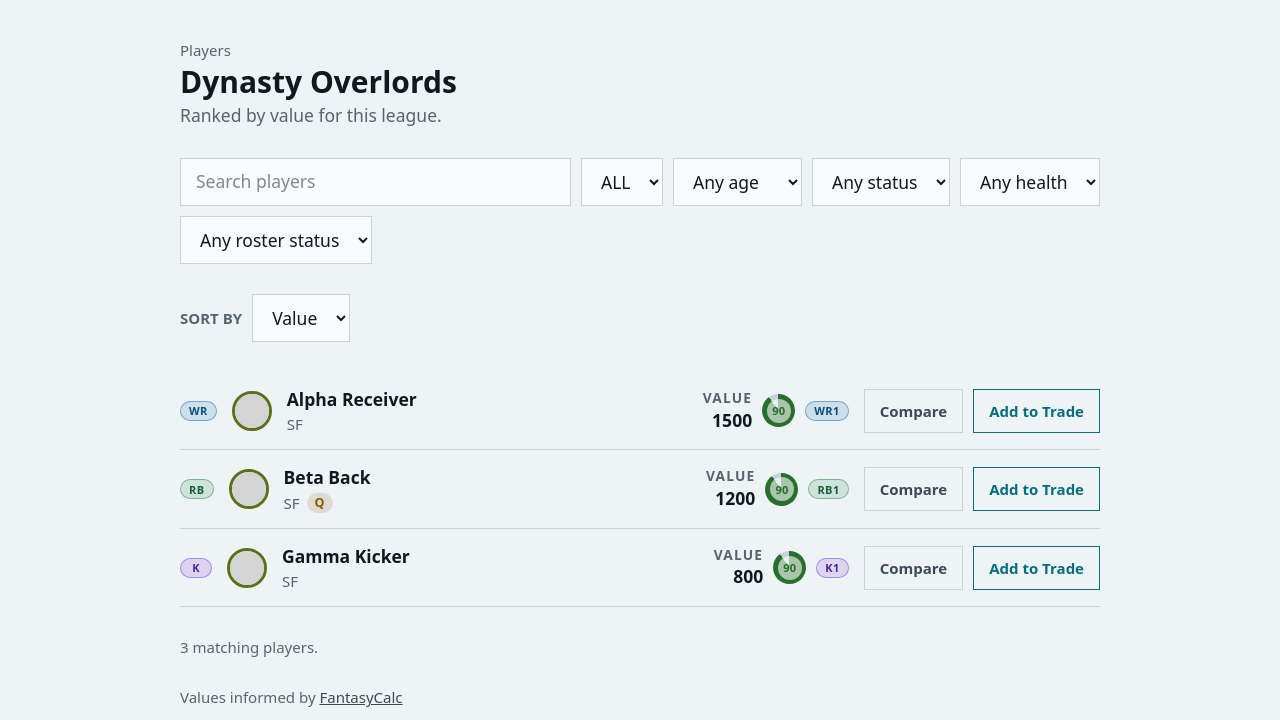
Test: PlayersContent › roster-status facet › filters to available (unrostered) players
The image size is (1280, 720).
Select "Available" in the 5th dropdown at (276, 240), box [180, 216, 372, 264]
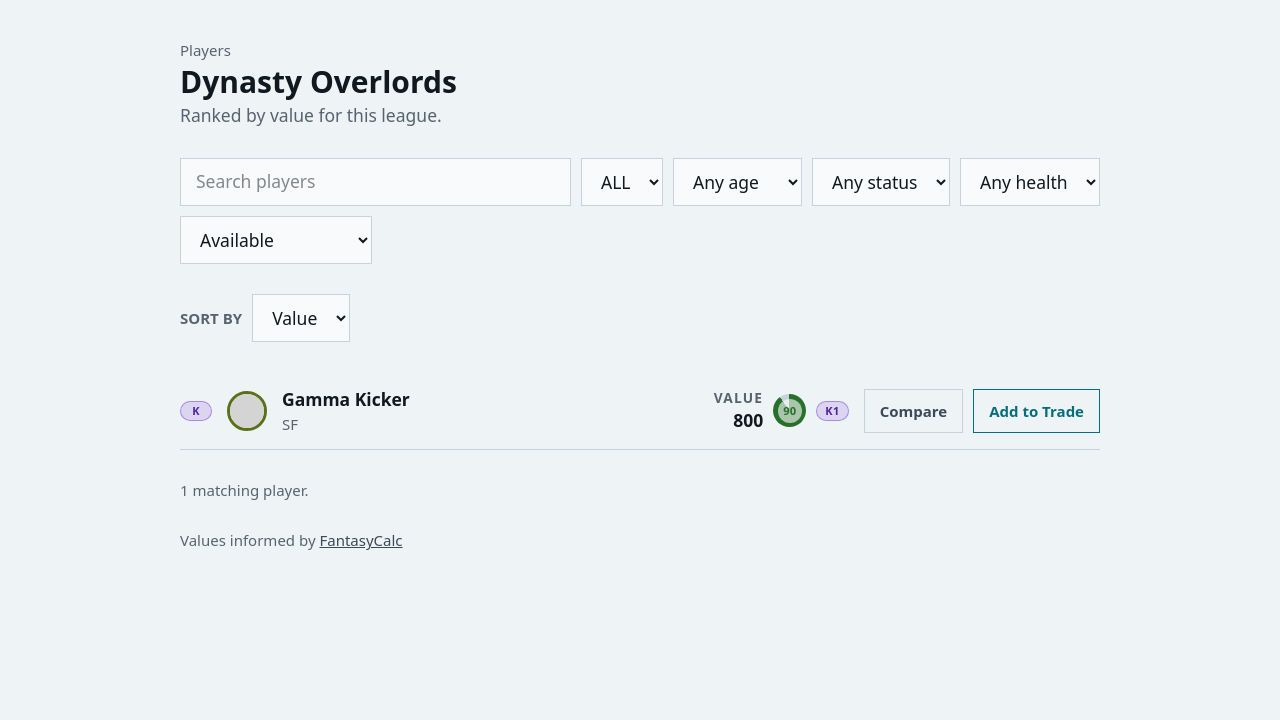
Expected: the text "Gamma Kicker" is shown, [282, 387, 410, 412]
Expected: the button "Alpha Receiver" is gone
Expected: the button "Beta Back" is gone
